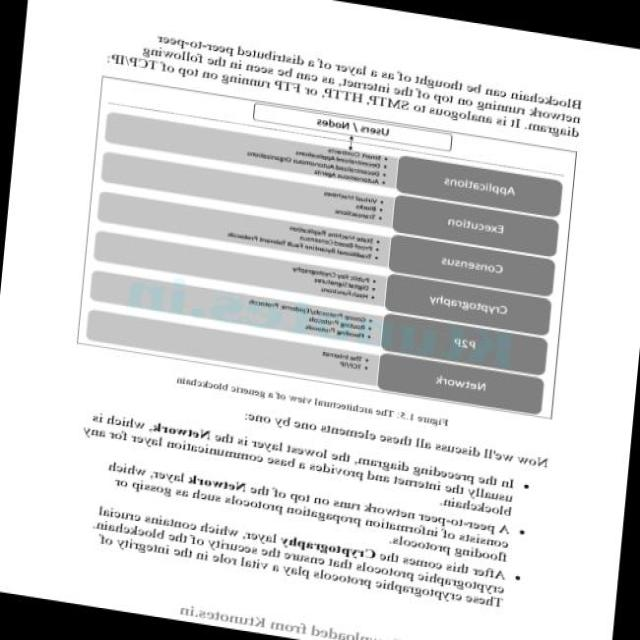Figure Detection - v3 Dataset Version2: (65, 64, 591, 429)
